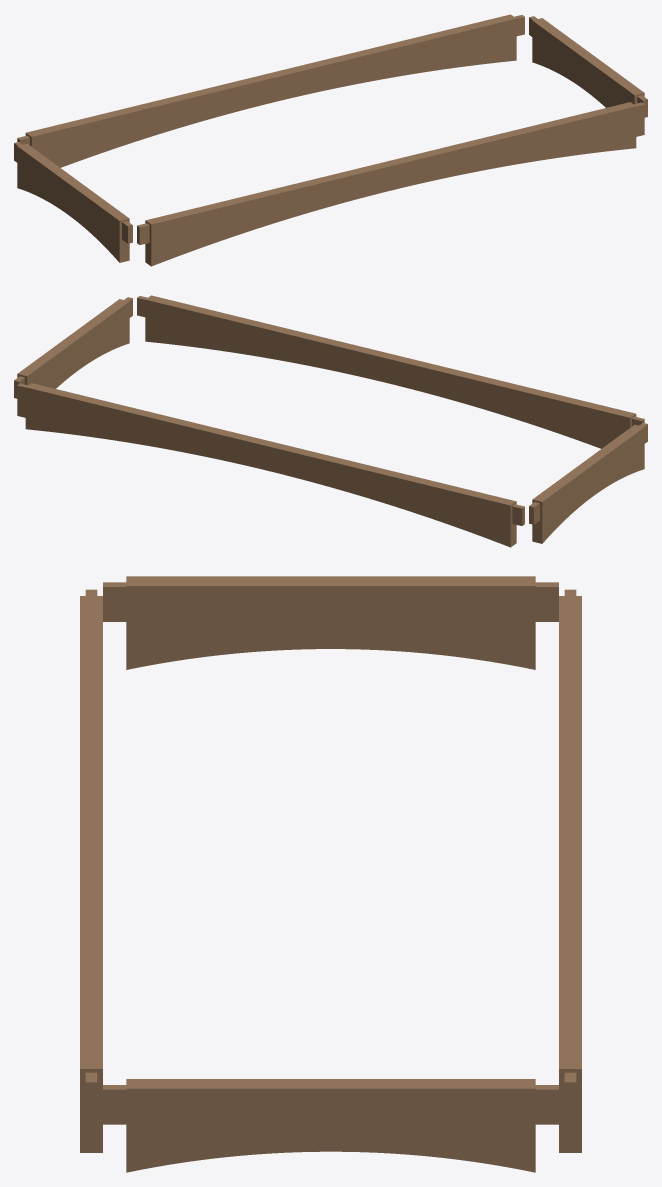
The model's file is Aprons_Arched.glb.
3 views of the same model, one above another, from view 1: azimuth 30°, elevation 25°; view 2: azimuth 150°, elevation 25°; view 3: azimuth 270°, elevation 25° (orthographic). The views are drawn at different scales.
Parts seen in each view (by area): view 1: Aprons_Arched; view 2: Aprons_Arched; view 3: Aprons_Arched.
Part boxes in pixels (box(x1,y1,x2,y2)): Aprons_Arched: box(14, 14, 647, 266); Aprons_Arched: box(14, 295, 647, 547); Aprons_Arched: box(80, 576, 581, 1172).
Bounding box in the file's own units: 0.997 × 0.0762 × 0.4128.
